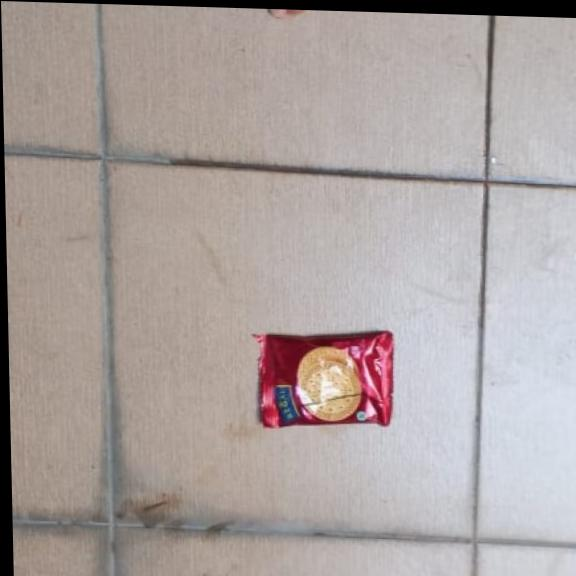Plastik: (249, 328, 398, 432)
